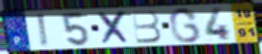4: (203, 6, 233, 42)
5: (58, 10, 92, 48)
B: (130, 9, 164, 45)
G: (168, 6, 203, 44)
I: (35, 12, 51, 48)
X: (96, 10, 132, 46)
